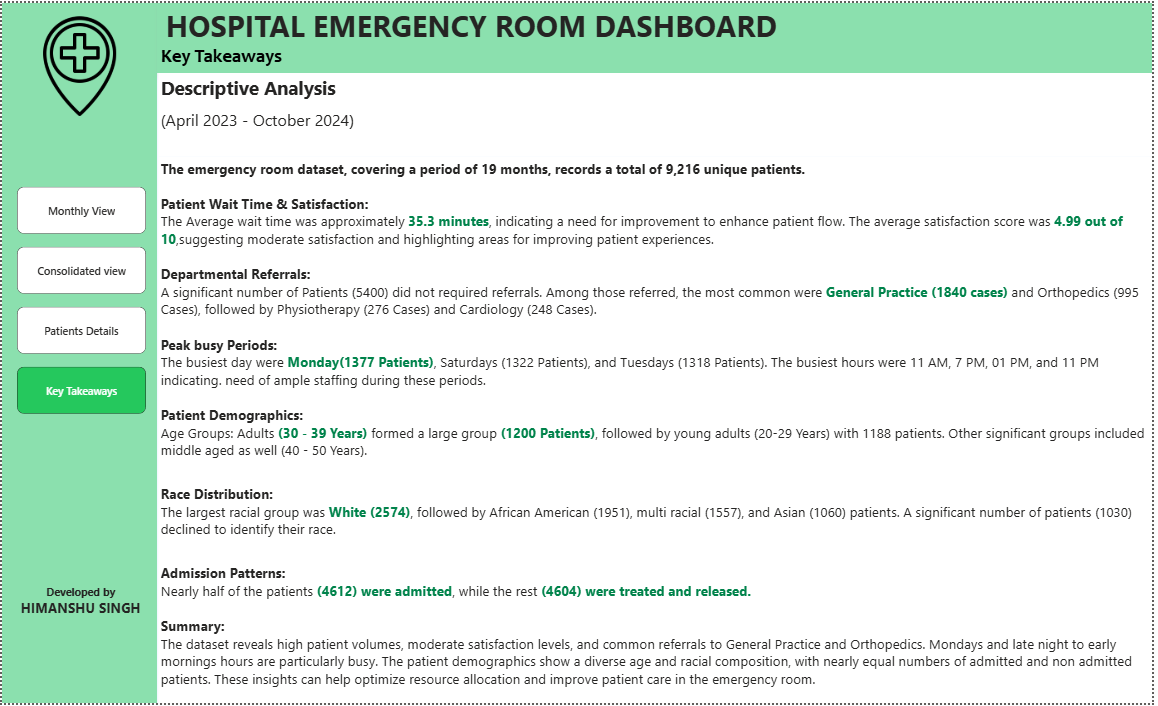

The page's visual inventory and layout, read from the dashboard file:
{"tool":"powerbi","page":{"name":"Key Takeaways","canvas":[2300,1400],"ordinal":3},"visuals":[{"type":"shape","box":[0,0,310,1400.5],"z":0},{"type":"shape","box":[310.7,0,1990,140],"z":1000},{"type":"textbox","box":[309.6,0,1257.8,104],"z":2000},{"type":"textbox","box":[287.8,77.4,302.4,55.6],"z":3000},{"type":"image","box":[46,19.4,220.1,212.9],"z":4000},{"type":"textbox","box":[312,140.3,1988.3,166.9],"z":5000},{"type":"textbox","box":[312,307,1988,1093],"z":6000},{"type":"pageNavigator","box":[29,367.7,258.8,457.2],"z":7000},{"type":"textbox","box":[6.6,1157.2,300.3,109.6],"z":8000}]}

Visuals, with their boxes in screenshot pixels (x1, y1, x2, y2), scaled from the page's 2300x1400 canvas onto the 1158x706 screenshot:
shape: x1=0 y1=0 x2=156 y2=705
shape: x1=156 y1=0 x2=1157 y2=71
textbox: x1=156 y1=0 x2=789 y2=52
textbox: x1=145 y1=39 x2=297 y2=67
image: x1=23 y1=10 x2=134 y2=117
textbox: x1=157 y1=71 x2=1157 y2=155
textbox: x1=157 y1=155 x2=1157 y2=705
pageNavigator: x1=15 y1=185 x2=145 y2=416
textbox: x1=3 y1=584 x2=155 y2=639
